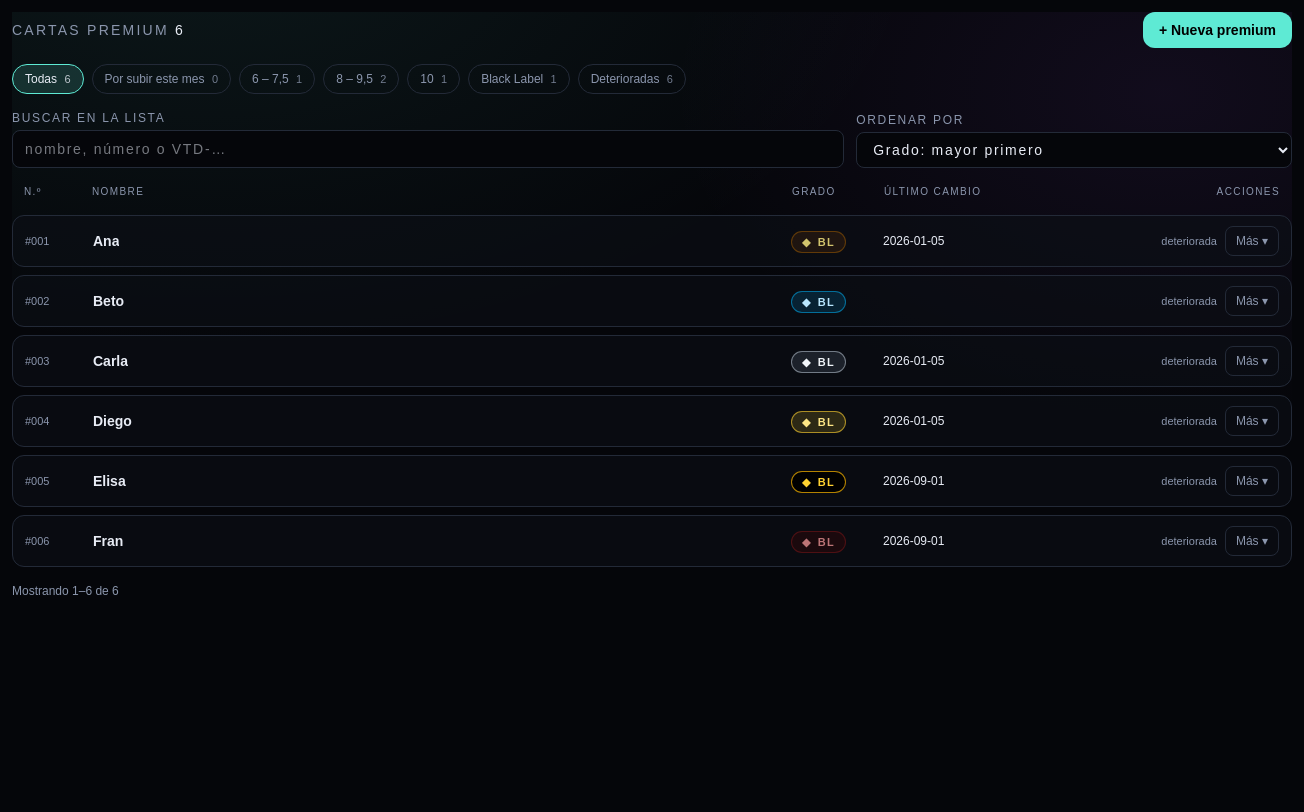
Test case: PremiumManager: filtros, orden y paginación (la lista no es una sábana) › si nada coincide lo dice y ofrece quitar los filtros
This screenshot has width=1304, height=812.
Type "zzzz" into the field named "Buscar en la lista de premium" at (428, 149), box top-left (12, 130), bottom-right (844, 168)
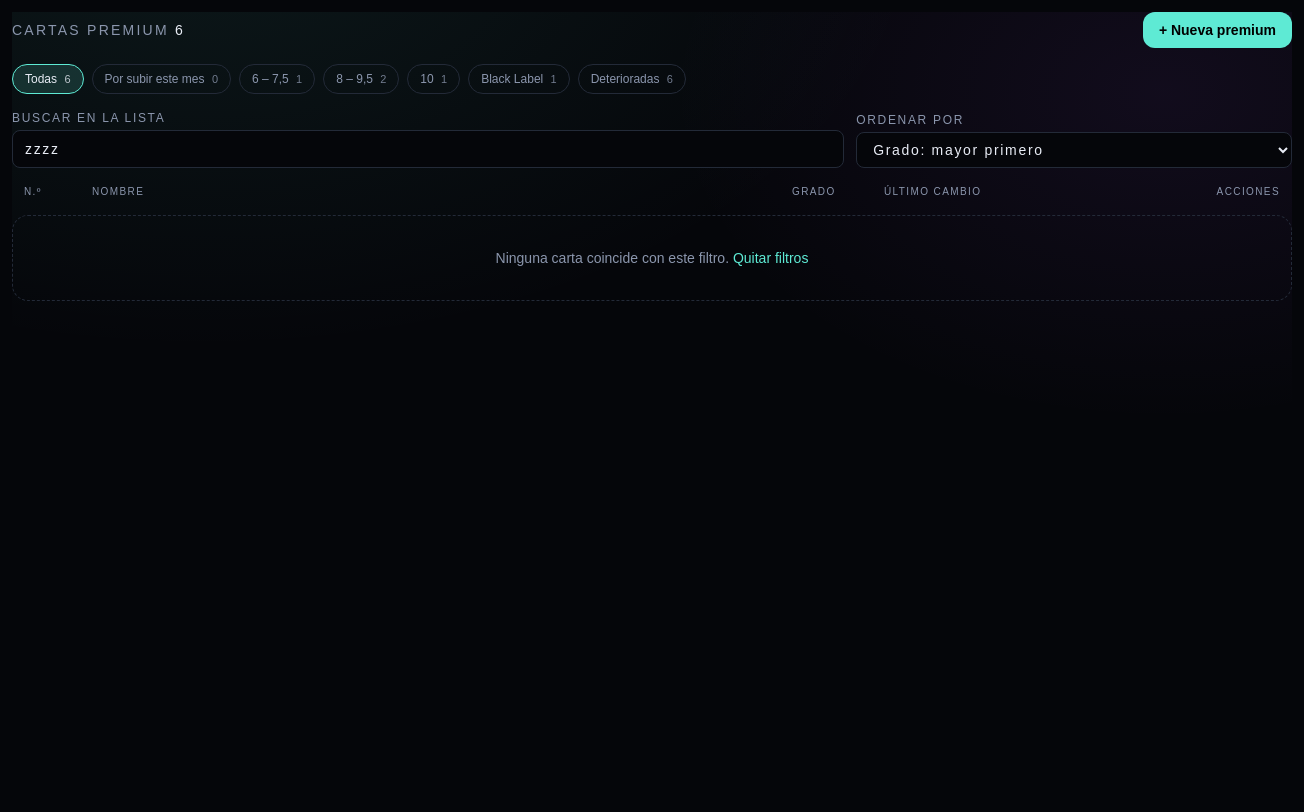
Expected: the element with test id "premium-sin-resultados" shows "Ninguna carta coincide", top-left (496, 250), bottom-right (729, 266)
Click the button "Quitar filtros" at (771, 258), box top-left (733, 248), bottom-right (808, 268)
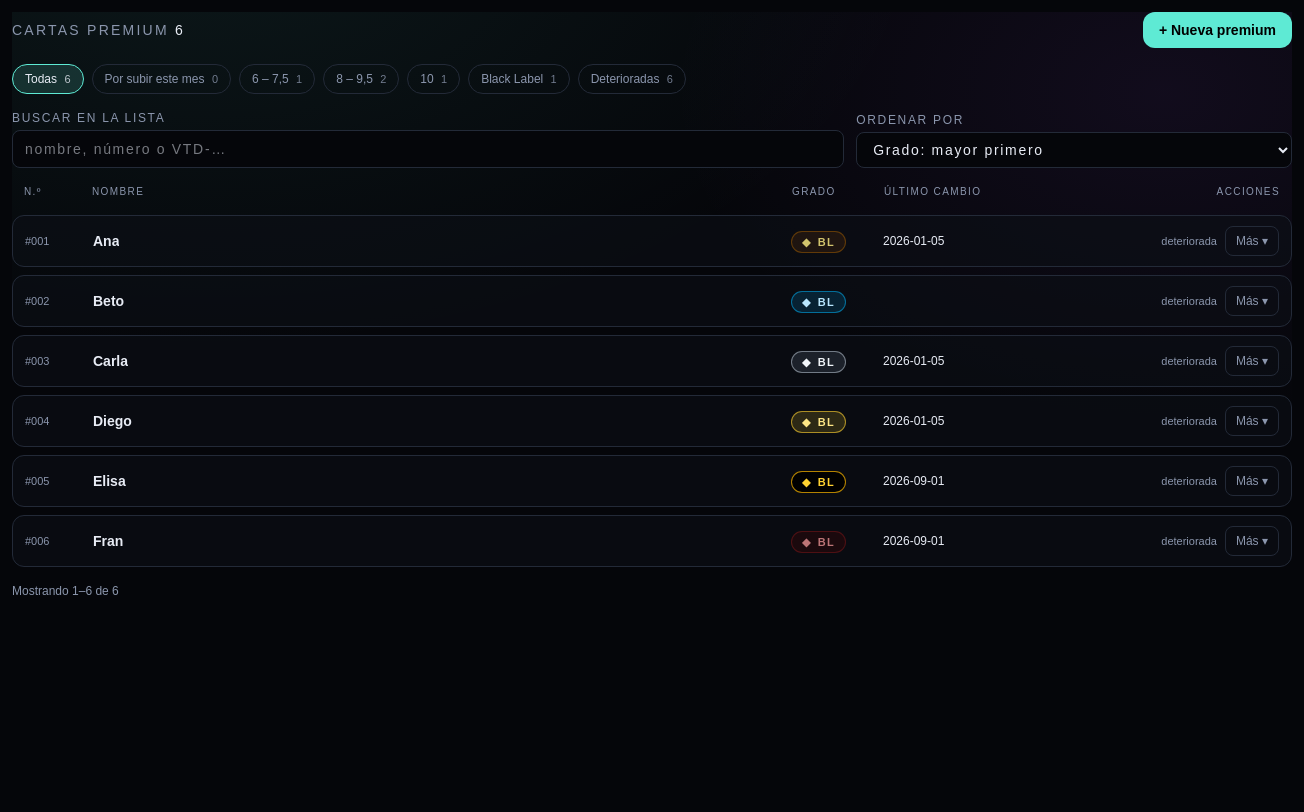
Expected: the number of list items with test id "premium-row" is 6, top-left (12, 215), bottom-right (1292, 267); top-left (12, 275), bottom-right (1292, 327); top-left (12, 335), bottom-right (1292, 387); top-left (12, 395), bottom-right (1292, 447); top-left (12, 455), bottom-right (1292, 507); top-left (12, 515), bottom-right (1292, 567)
